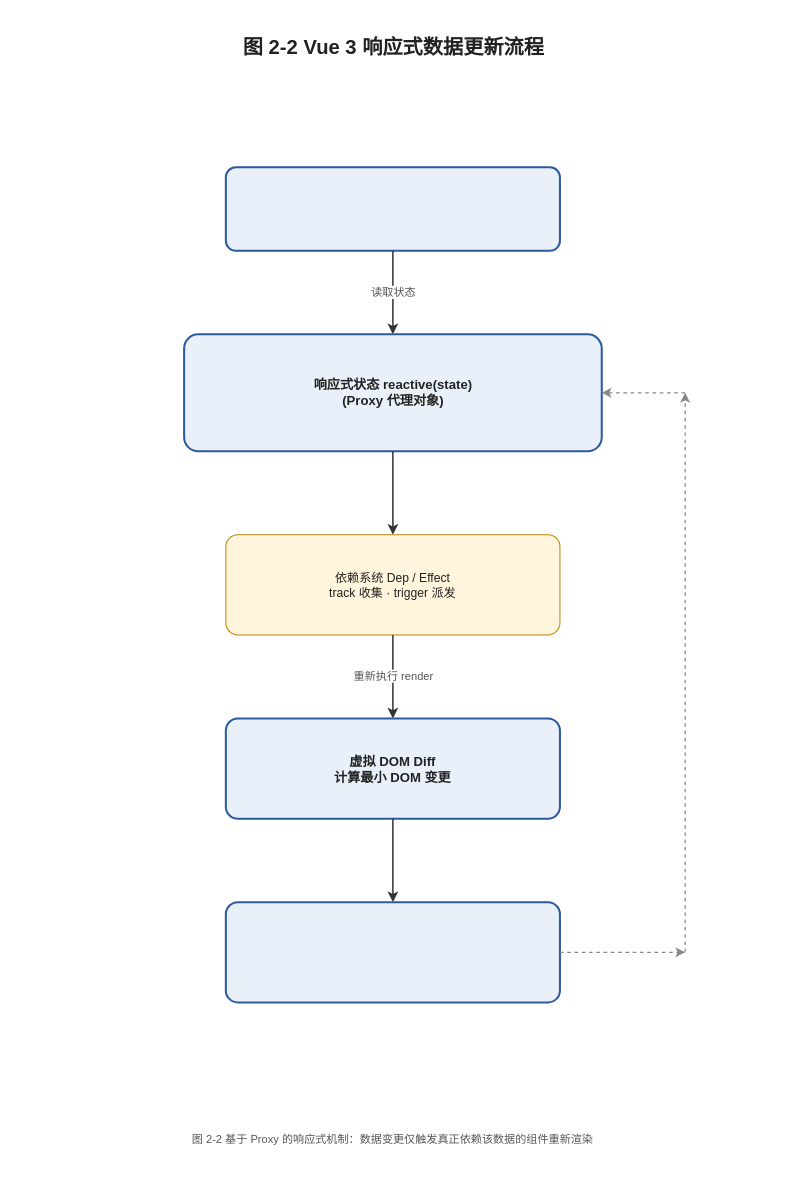
The diagram is 787 pixels wide and 1179 high, and some of its shapes have lost their labels. Here are the shapes that lost their labels. From the top down, the centre of each, then its label:
(392,208): 模板 + Render 函数
(392,952): 真实 DOM 更新
